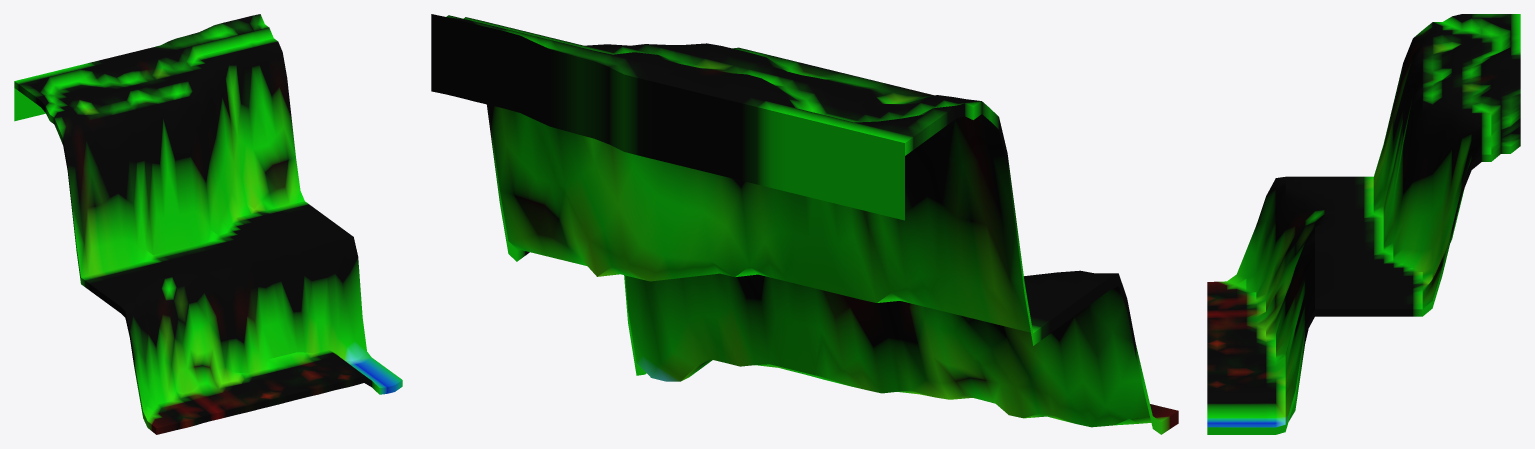
The model's file is Terrain_00_04.fbx.
3 renders of one model, left to right at view 1: azimuth 30°, elevation 25°; view 2: azimuth 150°, elevation 25°; view 3: azimuth 270°, elevation 25°, orthographic. The views are drawn at different scales.
Visible parts, largest first — view 1: Terrain_00_04_LOD0; view 2: Terrain_00_04_LOD0; view 3: Terrain_00_04_LOD0.
Part boxes in pixels (x1,y1,x2,y2): Terrain_00_04_LOD0: [14, 14, 402, 434]; Terrain_00_04_LOD0: [431, 14, 1178, 434]; Terrain_00_04_LOD0: [1207, 14, 1520, 434].
Size of what is drawn, in the model's own units: 384 by 406 by 384.
